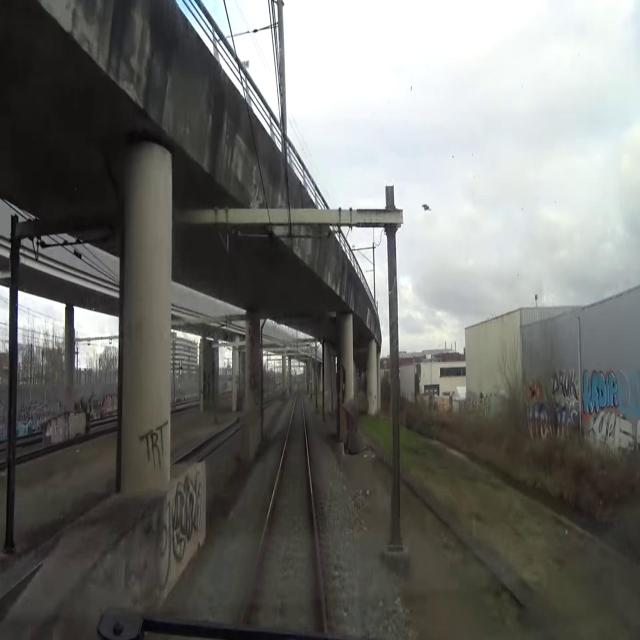rail-track: (244, 395, 323, 629)
